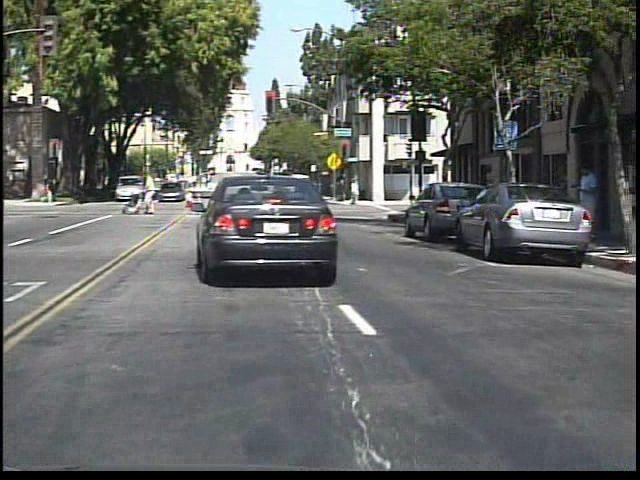person: (576, 158, 603, 212), (147, 171, 169, 218), (40, 174, 57, 207), (96, 174, 97, 205)
